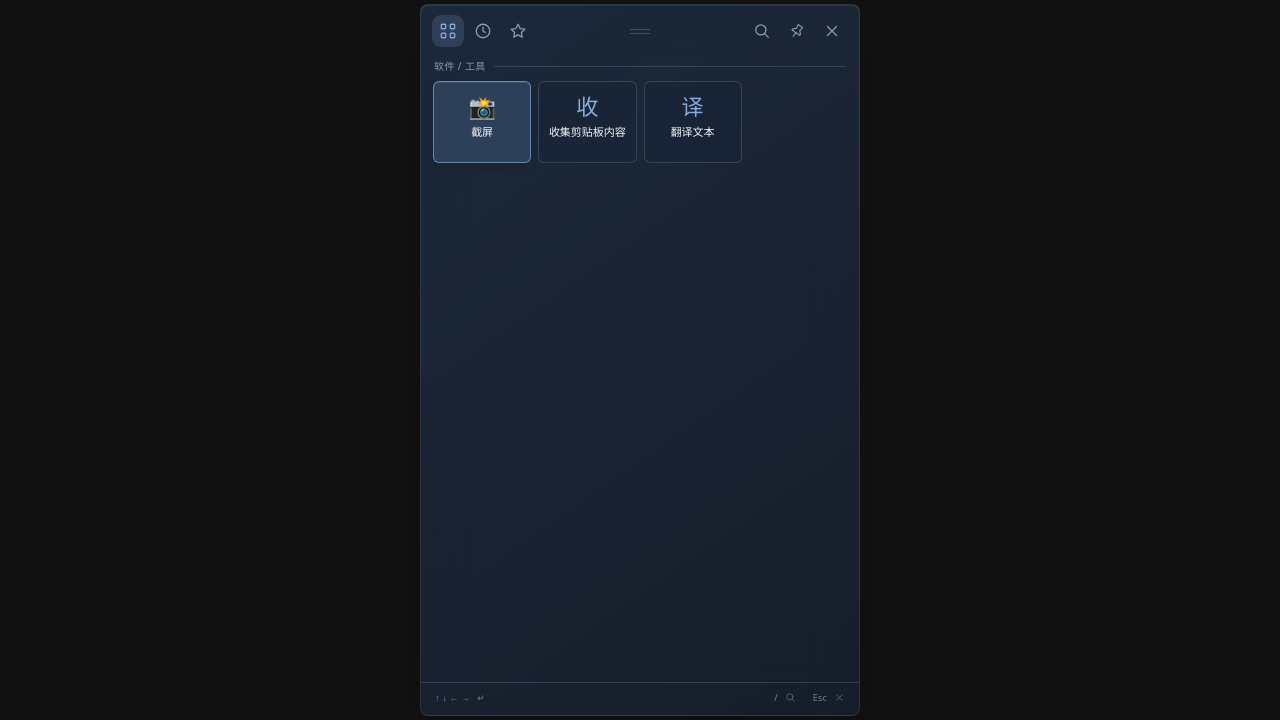
LauncherPage native window interactions › 空剪贴板无需发送翻译请求
This screenshot has width=1280, height=720.
Click the option "译 翻译文本" at (693, 122), box [644, 81, 742, 163]
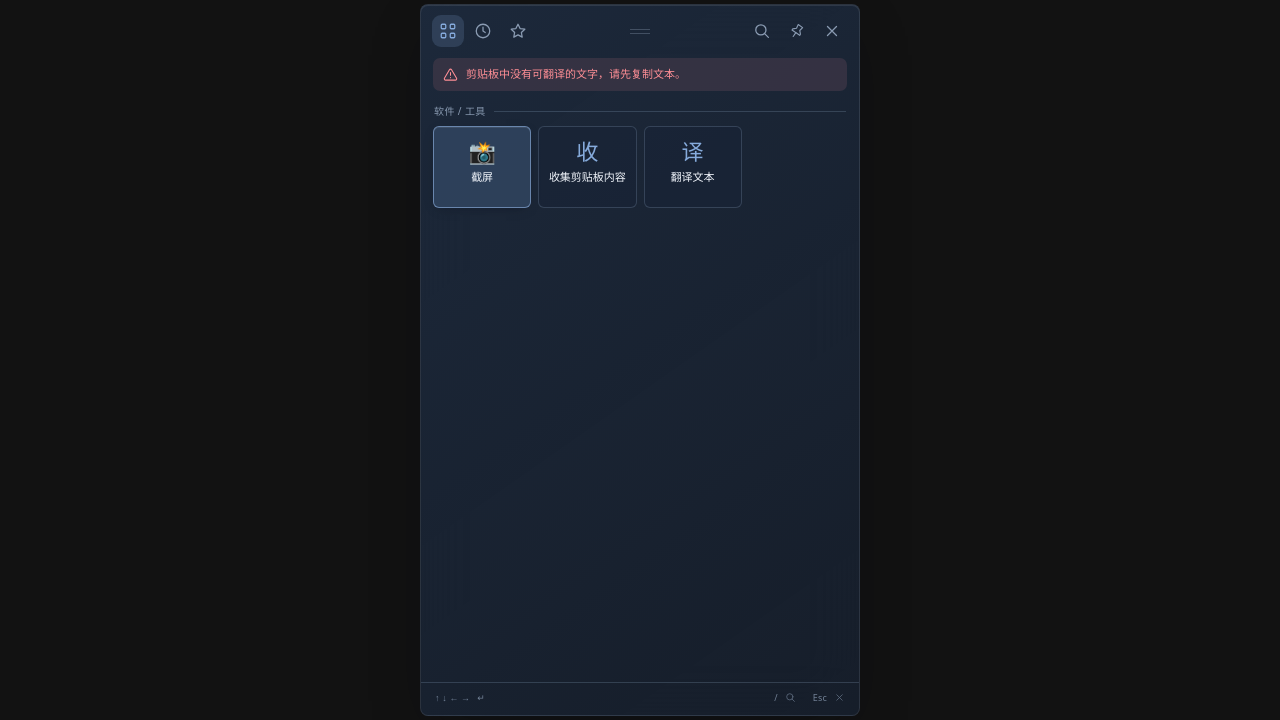
Now the message shows "请先复制文本", box [466, 66, 686, 81]
